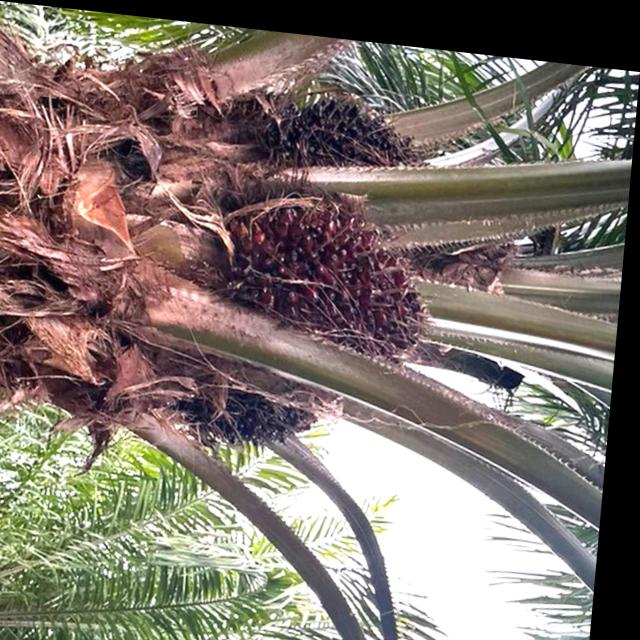ripe: (208, 168, 462, 363)
